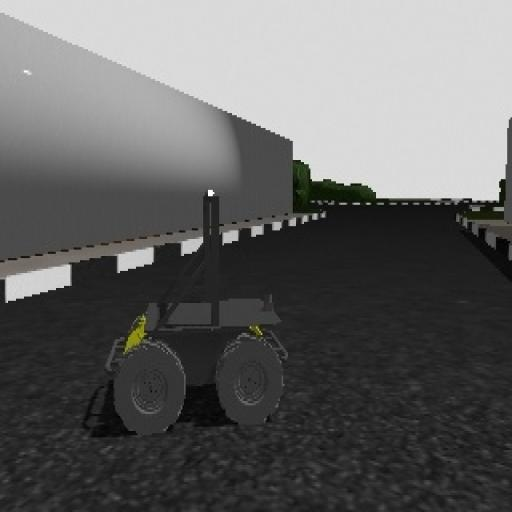huskya200: (83, 176, 309, 448)
